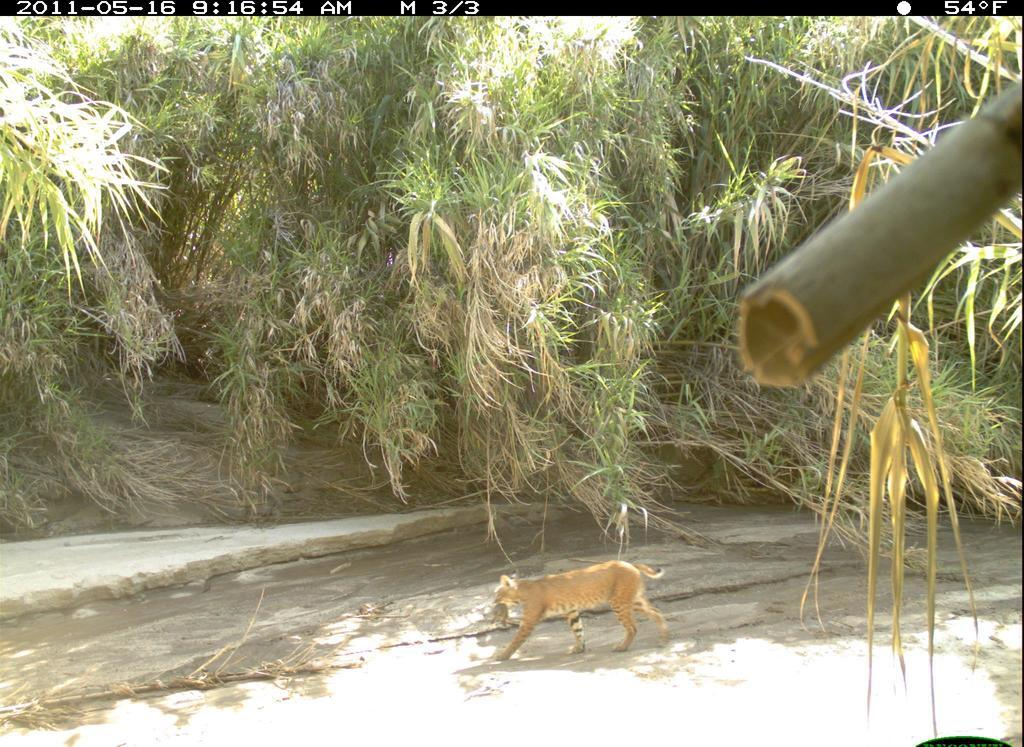bobcat: (484, 551, 674, 664)
